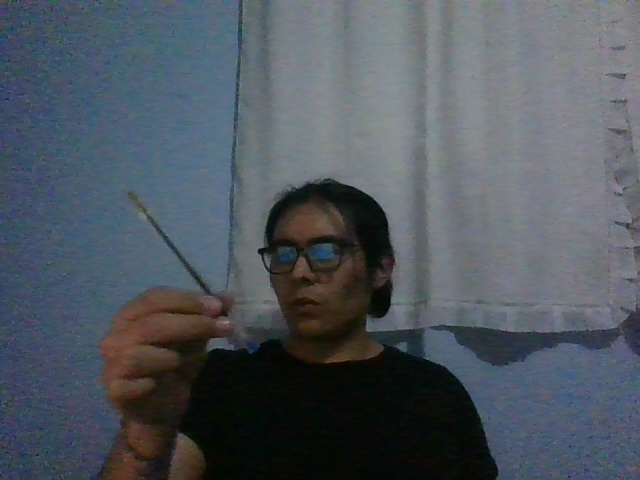pluma: (123, 186, 261, 354)
